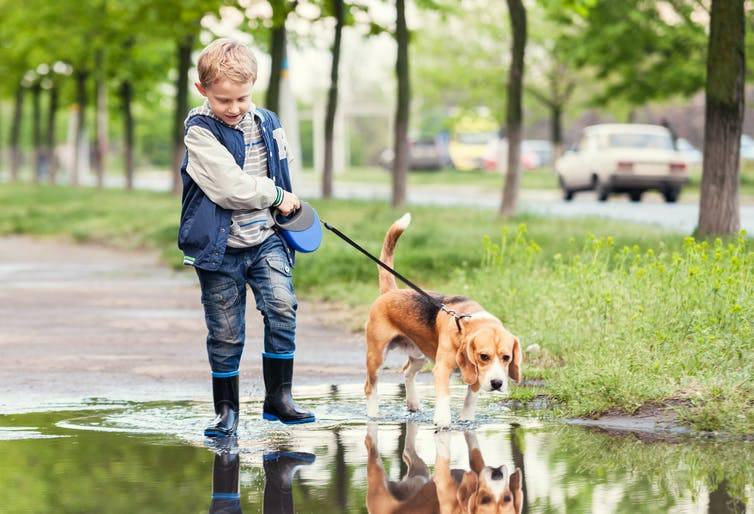dog: (456, 323, 529, 393)
person: (189, 32, 281, 134)
